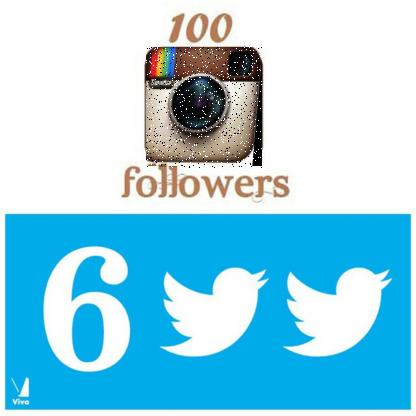Camera: (147, 49, 264, 171)
